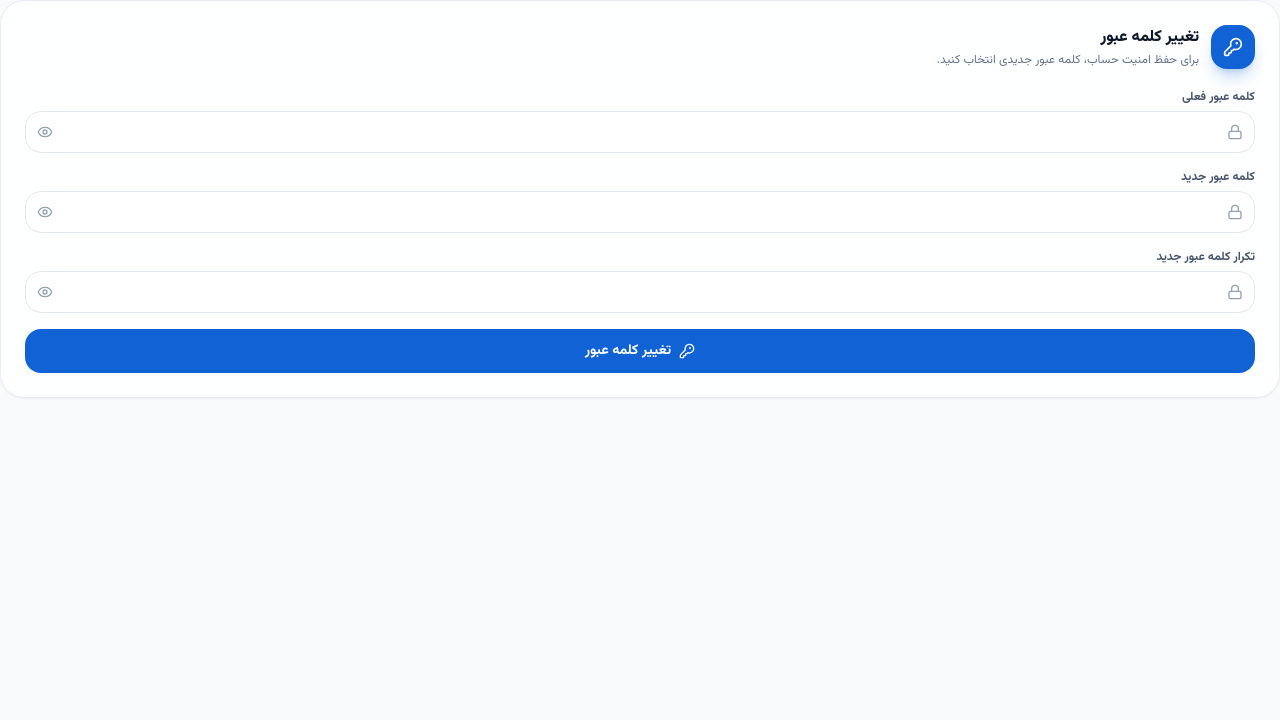
Scenario: [component] PasswordForm › shows the server error message when the change fails
Type "OldPass123!" into the password field below "کلمه عبور فعلی" at [640, 132], box [25, 111, 1255, 153]
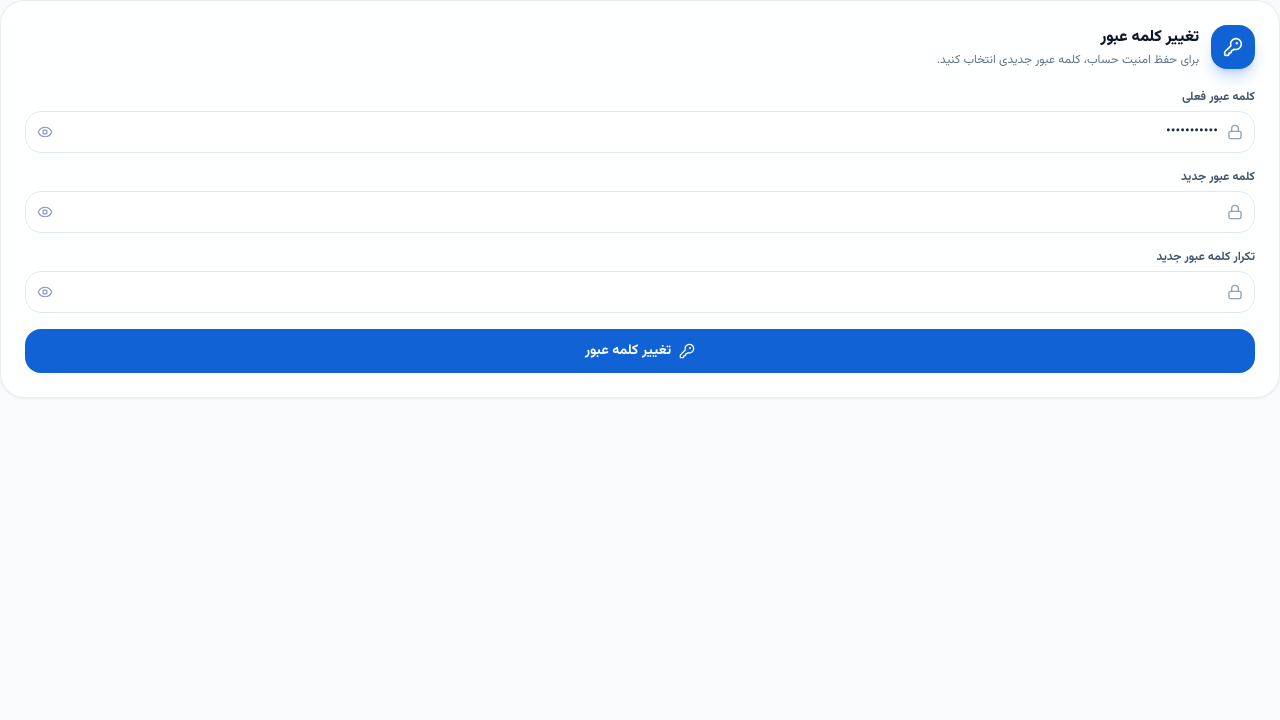
Type "NewPass123!" into the 2nd password field at [640, 212], box [25, 191, 1255, 233]
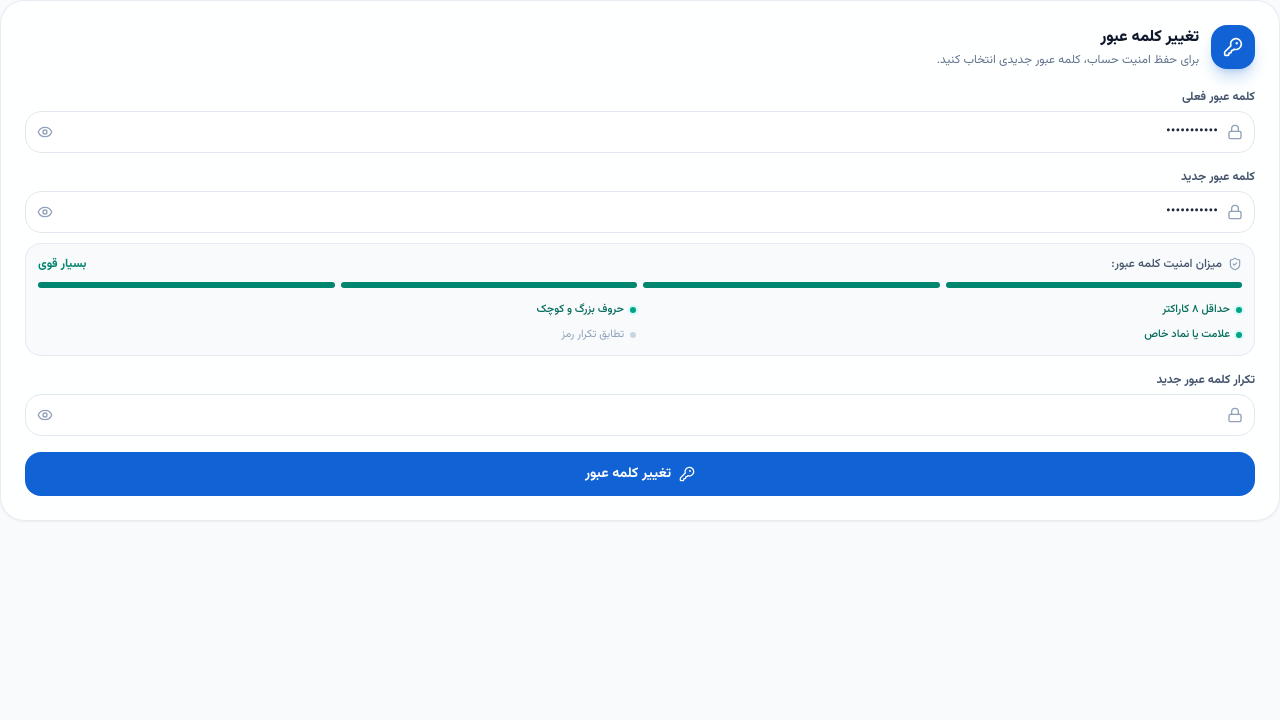
Type "NewPass123!" into the password field below "تکرار کلمه عبور جدید" at [640, 415], box [25, 394, 1255, 436]
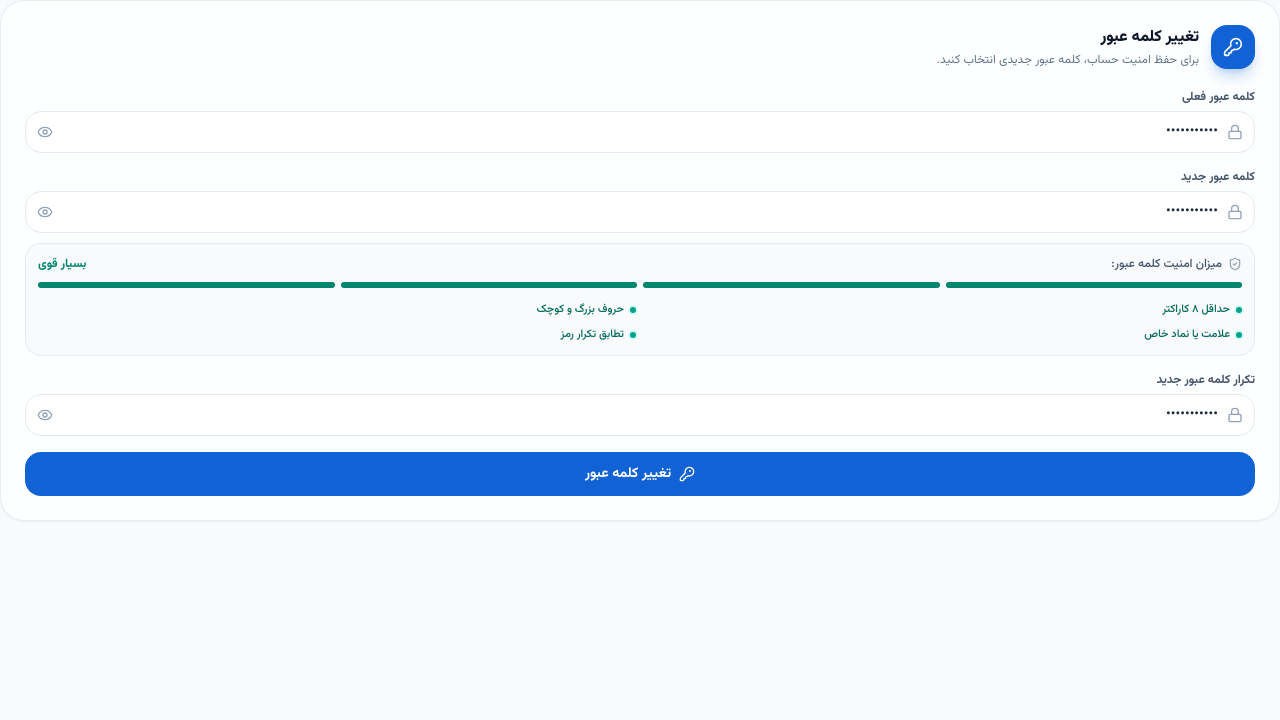
Click the button "تغییر کلمه عبور" at [640, 474], box [25, 452, 1255, 496]
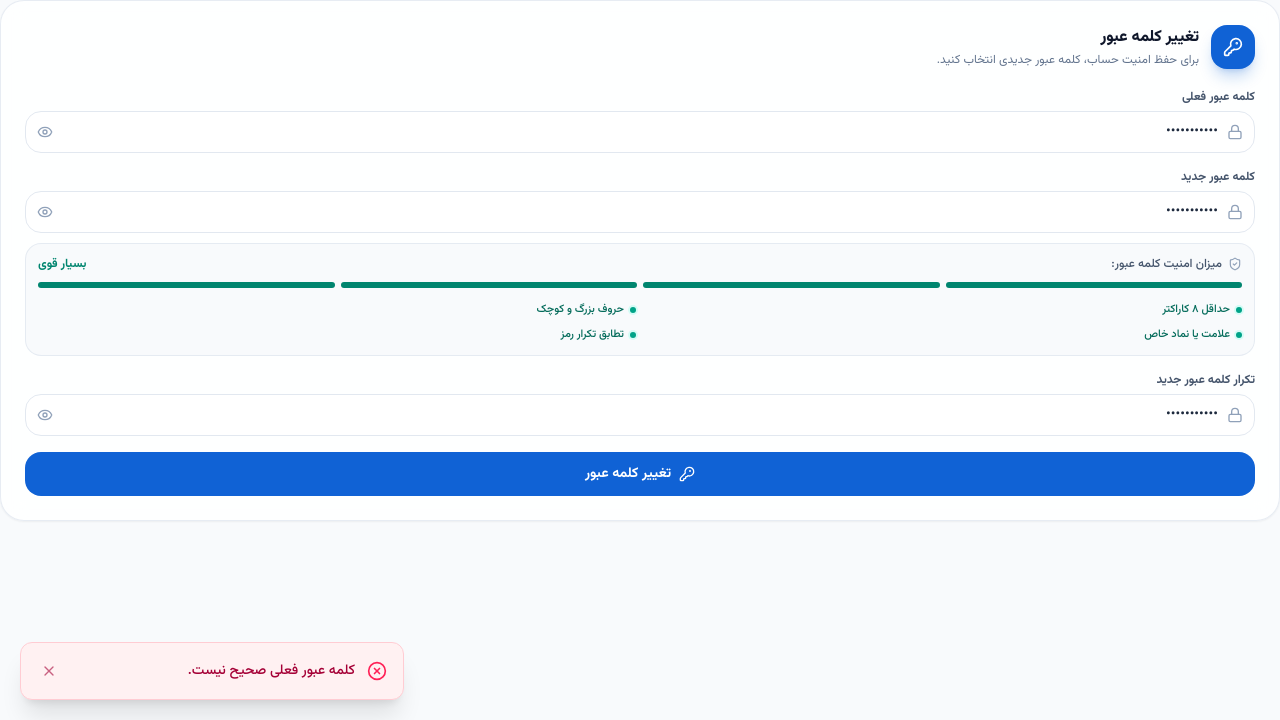
Expected: the text "کلمه عبور فعلی صحیح نیست." is shown, [188, 661, 355, 681]
